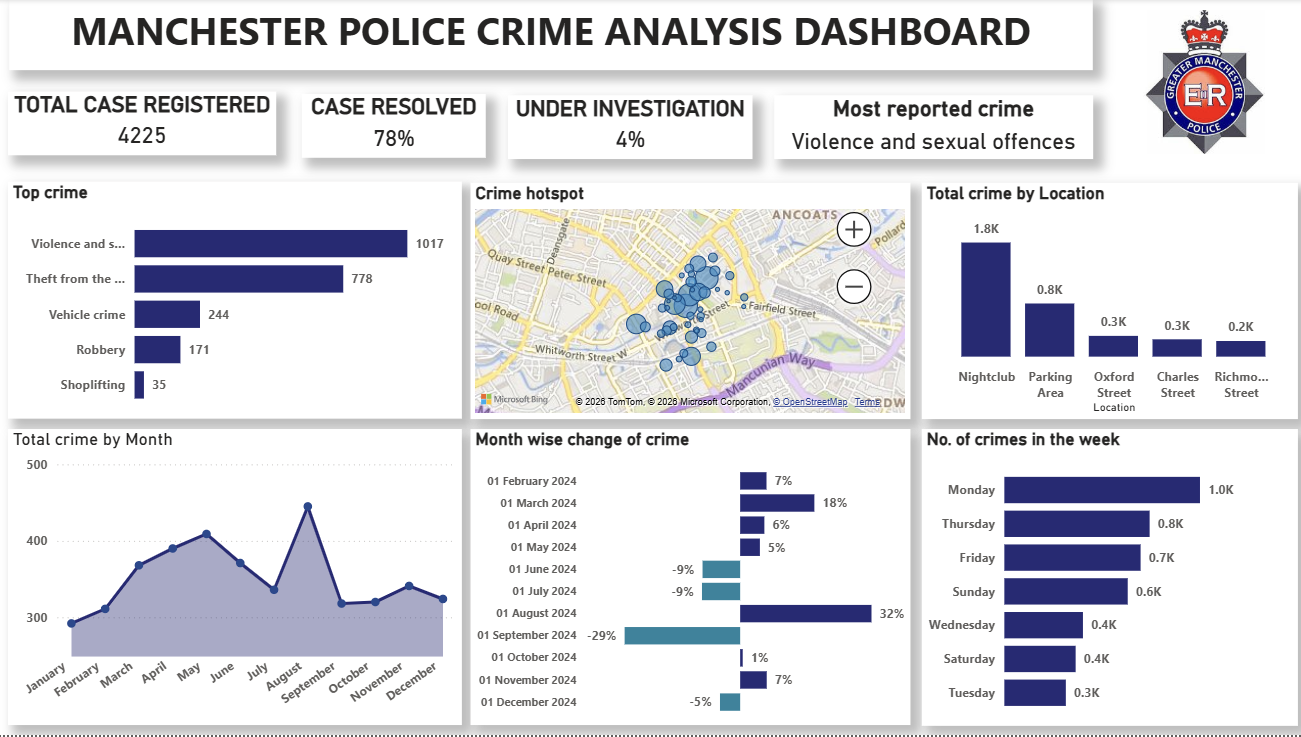

This screenshot's page, from the dashboard's own definition file:
{"tool":"powerbi","page":{"name":"DASHBOARD","canvas":[1280,720],"ordinal":0},"visuals":[{"type":"textbox","box":[11,0,1060.2,69.7],"z":0},{"type":"card","title":"TOTAL CASE REGISTERED","fields":{"Values":["CountNonNull(Crime.Category)"]},"box":[10.1,90.9,262.6,62],"z":1000},{"type":"card","title":"CASE RESOLVED","fields":{"Values":["Crime.level of eficiency"]},"box":[297.2,92.3,180.3,62],"z":2000},{"type":"card","title":"UNDER INVESTIGATION","fields":{"Values":["Crime.under investigation"]},"box":[499.2,93.8,239.5,62],"z":3000},{"type":"clusteredBarChart","title":"Top crime","fields":{"Category":["Crime.Category"],"Y":["CountNonNull(Crime.Location)"]},"box":[9.8,178.5,443.9,232.3],"z":4000},{"type":"map","title":"Crime hotspot","fields":{"X":["Crime.Longitude"],"Y":["Crime.Latitude"],"Size":["Crime.Total crime"]},"box":[462.2,179.8,430.4,231.1],"z":5000},{"type":"clusteredColumnChart","fields":{"Category":["Crime.Location"],"Y":["Crime.Total crime"]},"box":[903.7,179.8,368.1,231.1],"z":6000},{"type":"areaChart","fields":{"Y":["Crime.Total crime"],"Category":["Crime.Date.Variation.Date Hierarchy.Month"]},"box":[9.8,420.7,443.9,289.8],"z":7000},{"type":"barChart","title":"Month wise change of crime","fields":{"Y":["Crime.mom"],"Category":["Crime.Date"]},"box":[462.2,420.7,430.4,289.8],"z":8000},{"type":"card","title":"Most reported crime","fields":{"Values":["Crime.TOP N"]},"box":[759.4,94.2,311.8,62.4],"z":9000},{"type":"clusteredBarChart","title":"No. of crimes in the week","fields":{"Y":["Crime.Total crime"],"Category":["Crime.Day Name"]},"box":[904,421,368,290],"z":10000},{"type":"image","box":[1088.3,6.1,183.4,150.4],"z":11000}]}

Visuals, with their boxes in screenshot pixels (x1, y1, x2, y2), scaled from the page's 1280x720 canvas onto the 1301x737 screenshot:
textbox: 11, 0, 1089, 71
"TOTAL CASE REGISTERED" card: 10, 93, 277, 157
"CASE RESOLVED" card: 302, 94, 485, 158
"UNDER INVESTIGATION" card: 507, 96, 751, 159
"Top crime" clusteredBarChart: 10, 183, 461, 420
"Crime hotspot" map: 470, 184, 907, 421
clusteredColumnChart - Crime.Location x Crime.Total crime: 919, 184, 1293, 421
areaChart - Crime.Total crime x Crime.Date.Variation.Date Hierarchy.Month: 10, 431, 461, 727
"Month wise change of crime" barChart: 470, 431, 907, 727
"Most reported crime" card: 772, 96, 1089, 160
"No. of crimes in the week" clusteredBarChart: 919, 431, 1293, 728
image: 1106, 6, 1293, 160
